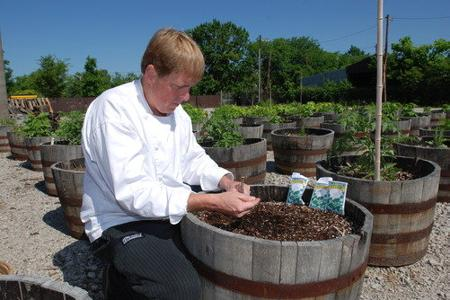person: (75, 24, 260, 300)
